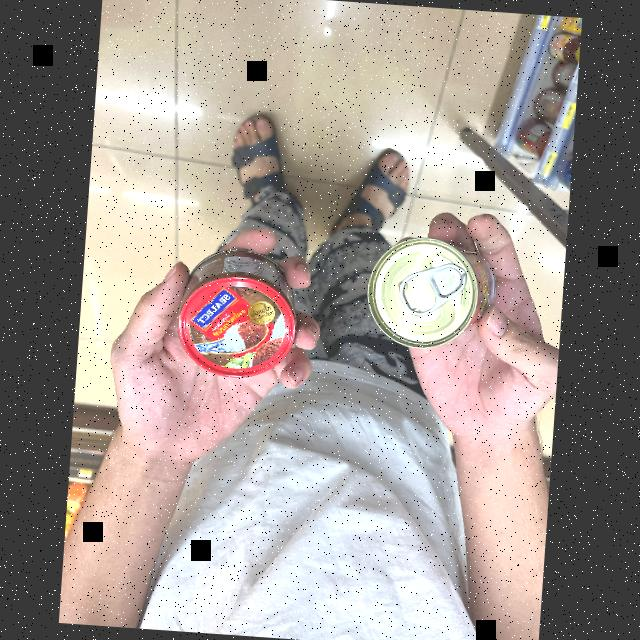can: (168, 238, 304, 390), (354, 227, 506, 356)
